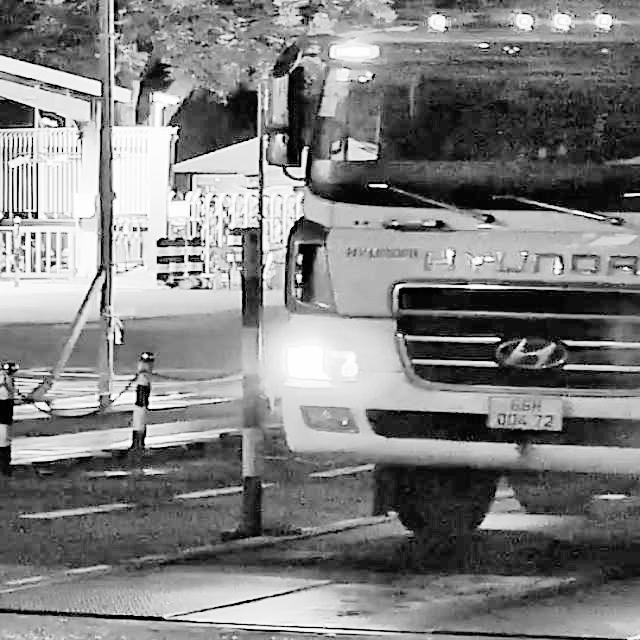Truck: (241, 6, 639, 550)
